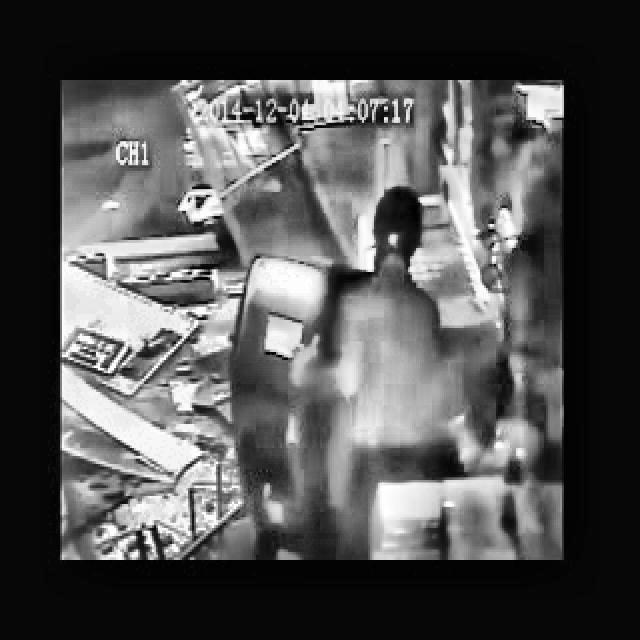burglary: (210, 182, 488, 560)
